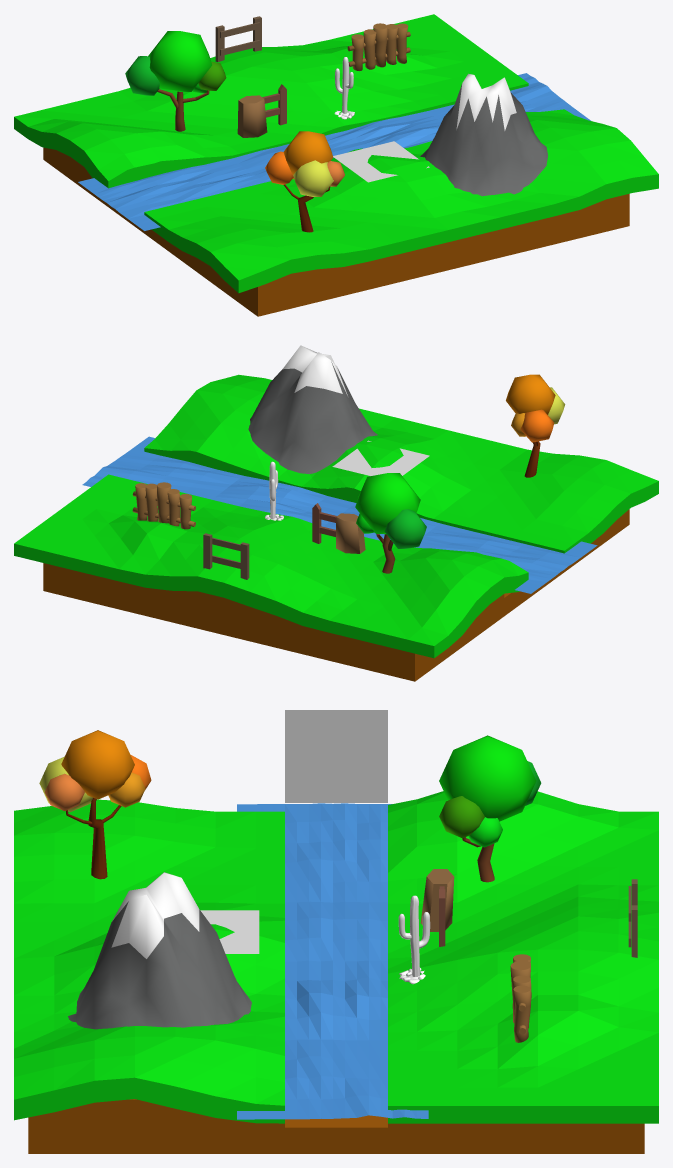
3 views of the same model, one above another, from view 1: azimuth 30°, elevation 25°; view 2: azimuth 150°, elevation 25°; view 3: azimuth 270°, elevation 25° (orthographic). The views are drawn at different scales.
Visible parts, largest first — view 1: Dirt, hill, leaf_4.001, fence25, trigger, leaf_5, bark.002, leaf, fence10, leaf.001, cactus_1.1, leaf_3 (+4 smaller); view 2: Dirt, hill, leaf_4.001, fence25, leaf_5, trigger, leaf.001, fence10, bark.002, leaf_3, fence06, cactus_1.1; view 3: Dirt, hill, dispawn, leaf_4.001, leaf_5, trigger, fence25, cactus_1.1, bark.002, leaf_3.001, bark, leaf_4 (+3 smaller).
Part boxes in pixels (bbox=[...]): Dirt: bbox=[14, 14, 658, 316]; hill: bbox=[420, 73, 547, 196]; leaf_4.001: bbox=[148, 31, 211, 91]; fence25: bbox=[347, 23, 410, 70]; trigger: bbox=[333, 141, 429, 182]; leaf_5: bbox=[283, 131, 333, 174]; bark.002: bbox=[237, 95, 267, 137]; leaf: bbox=[293, 160, 333, 196]; fence10: bbox=[215, 16, 261, 61]; leaf.001: bbox=[125, 56, 159, 95]; cactus_1.1: bbox=[334, 57, 354, 119]; leaf_3: bbox=[265, 151, 293, 184]; Dirt: bbox=[14, 374, 658, 681]; hill: bbox=[248, 345, 377, 474]; leaf_4.001: bbox=[355, 473, 420, 534]; fence25: bbox=[132, 482, 195, 529]; leaf_5: bbox=[506, 374, 555, 414]; trigger: bbox=[332, 440, 429, 475]; leaf.001: bbox=[384, 509, 426, 548]; fence10: bbox=[203, 533, 249, 579]; bark.002: bbox=[336, 513, 365, 553]; leaf_3: bbox=[520, 409, 554, 442]; fence06: bbox=[312, 503, 336, 543]; cactus_1.1: bbox=[265, 461, 283, 520]; Dirt: bbox=[14, 791, 658, 1153]; hill: bbox=[68, 872, 251, 1029]; dispawn: bbox=[285, 710, 387, 802]; leaf_4.001: bbox=[439, 735, 536, 821]; leaf_5: bbox=[61, 730, 134, 799]; trigger: bbox=[200, 910, 259, 953]; fence25: bbox=[510, 954, 531, 1042]; cactus_1.1: bbox=[398, 895, 430, 984]; bark.002: bbox=[420, 869, 454, 931]; leaf_3.001: bbox=[439, 796, 484, 838]; bark: bbox=[66, 798, 121, 879]; leaf_4: bbox=[44, 773, 84, 811].
Size of the model in its own units: 14.49 by 4.61 by 12.56.
